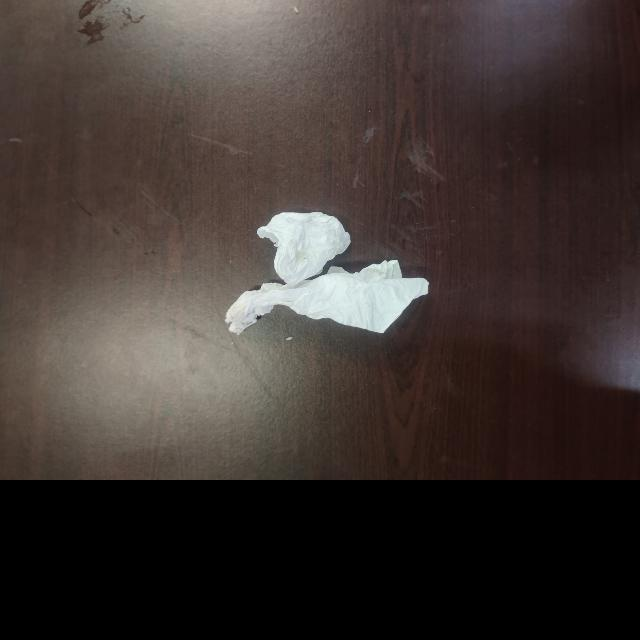kitchen paper: (224, 256, 434, 342), (255, 206, 356, 288)
